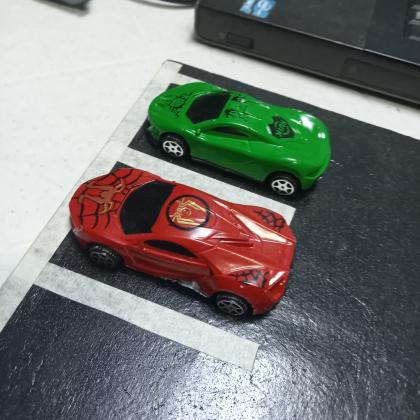Car: (68, 168, 296, 317), (146, 81, 332, 196)
